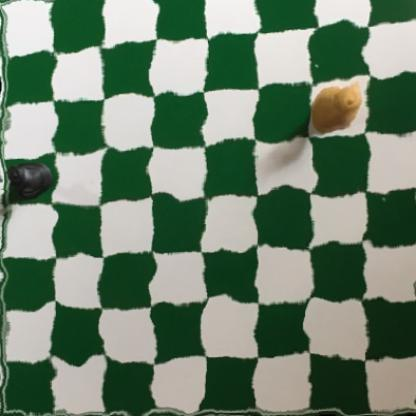black-queen: (2, 159, 52, 203)
white-queen: (309, 80, 363, 134)
